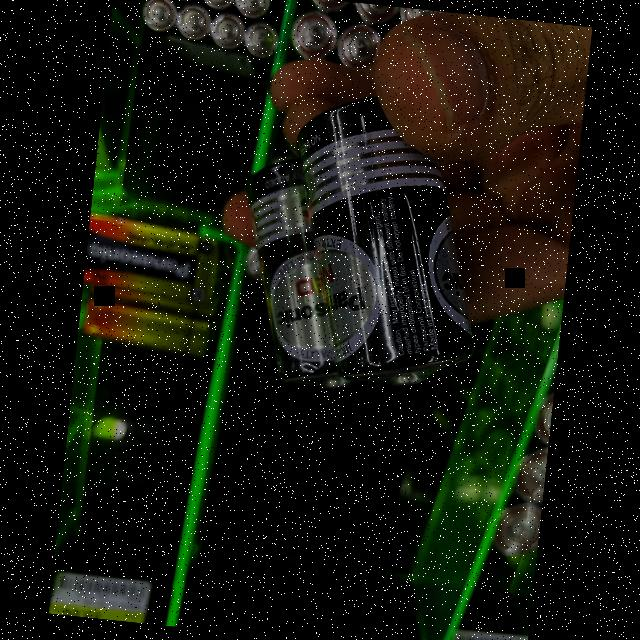battery: (266, 87, 498, 405), (216, 157, 386, 405)
